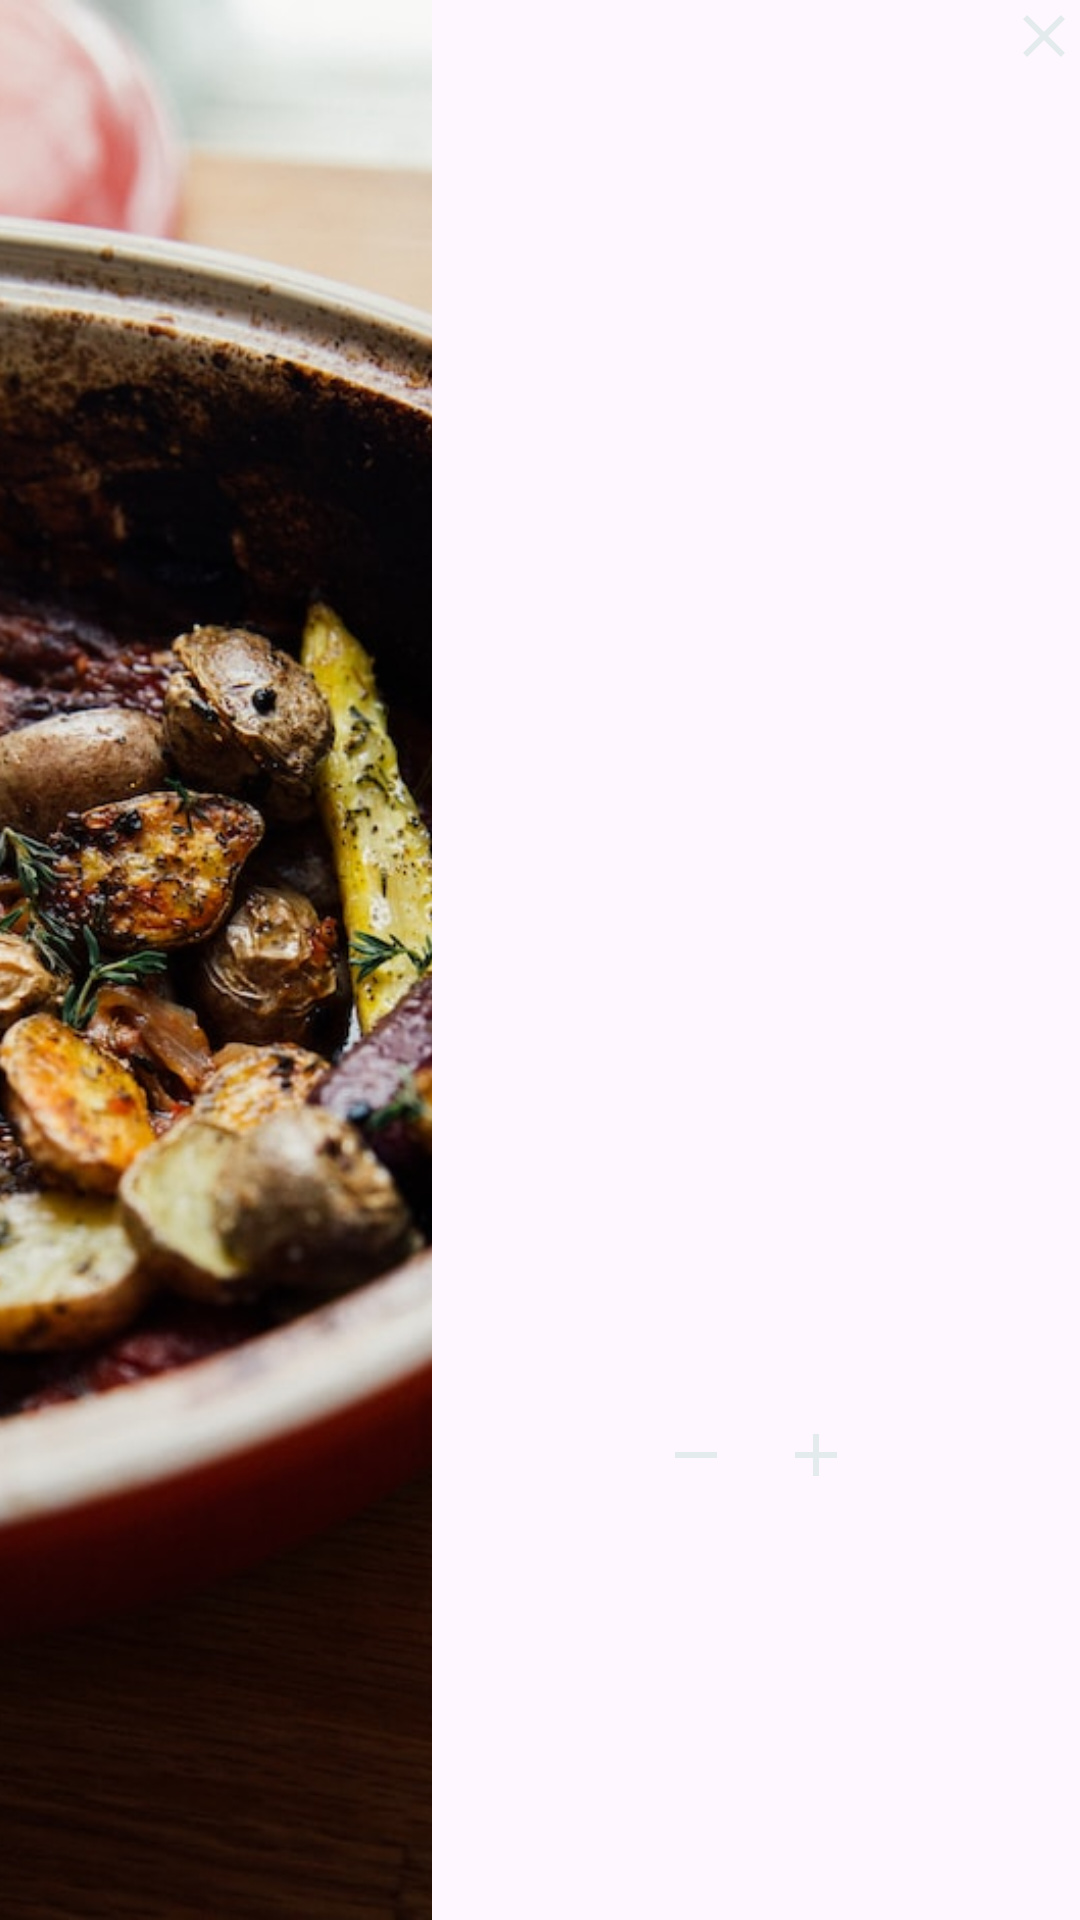

Named icons in this screenshot (1080 × 1920) and their bounding boxes, (x1, y1, x2, y2):
Add: (795, 1434, 837, 1476)
Close: (1024, 16, 1064, 56)
